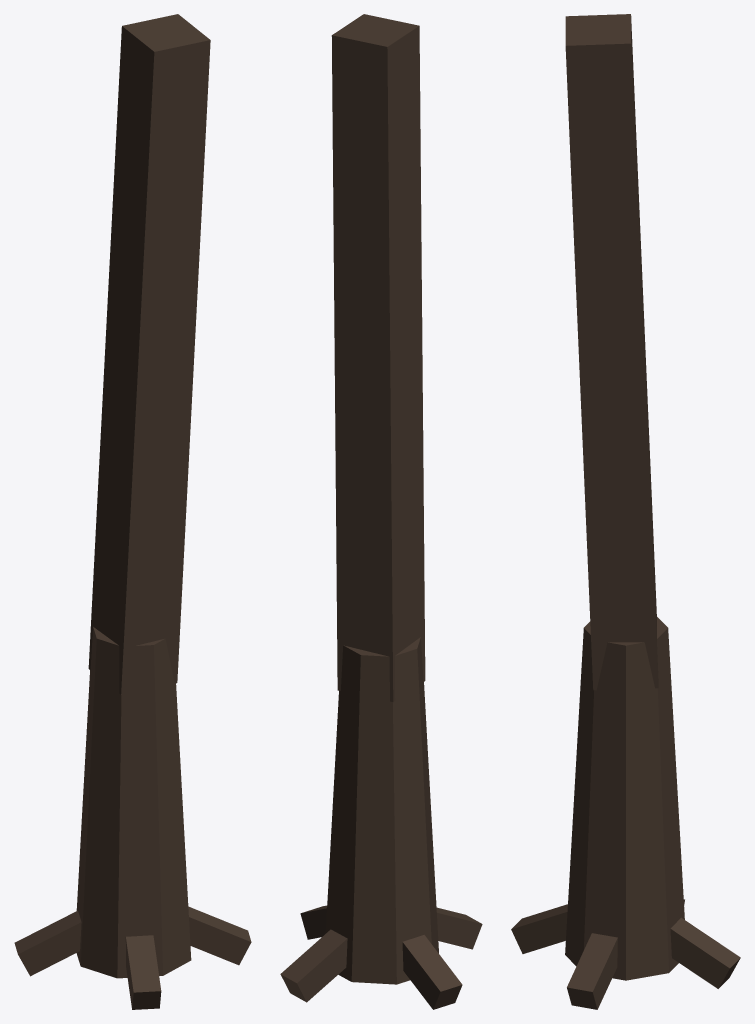
File: tree_pine_m_trunk.fbx
The picture shows the model from 3 angles, left to right: view 1: azimuth 30°, elevation 25°; view 2: azimuth 150°, elevation 25°; view 3: azimuth 270°, elevation 25°; orthographic projection. The views are drawn at different scales.
Parts seen in each view (by area): view 1: tree_pine_m_trunk; view 2: tree_pine_m_trunk; view 3: tree_pine_m_trunk.
Part boxes in pixels (x1,y1,x2,y2): tree_pine_m_trunk: (14,14,251,1009); tree_pine_m_trunk: (280,14,482,1009); tree_pine_m_trunk: (511,14,740,1009).
Bounding box in the file's own units: 490 × 2232 × 490.
